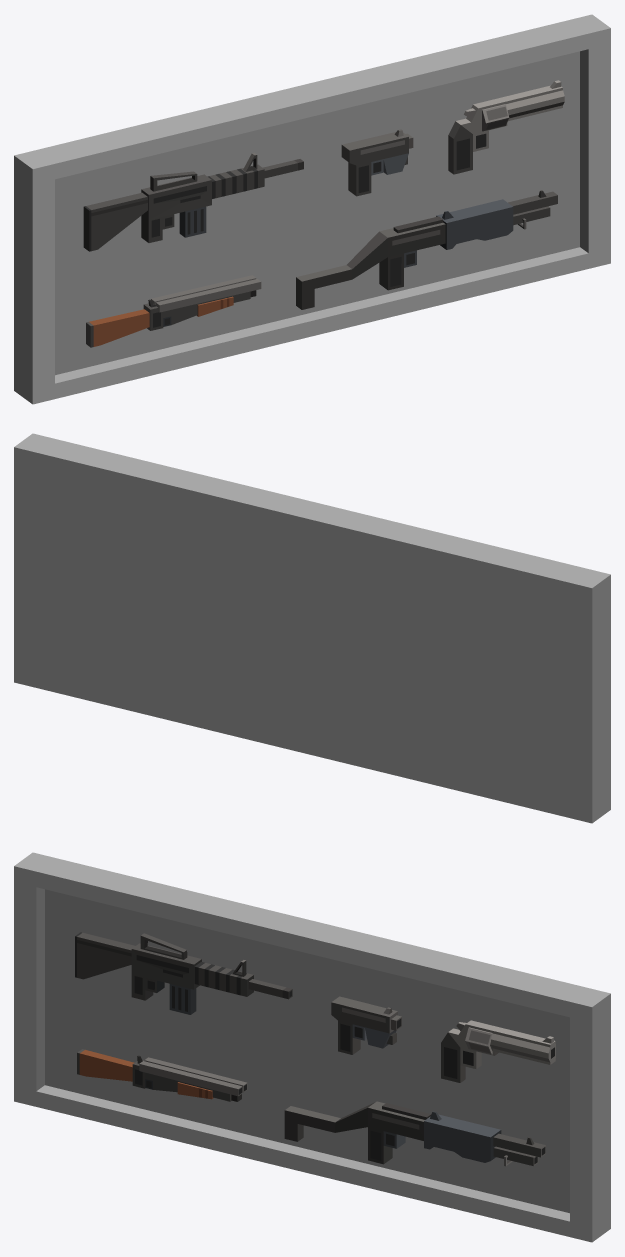
The model's file is AI_Prop_Guns_Rack_01.fbx.
The picture shows the model from 3 angles, top to bottom: view 1: azimuth 30°, elevation 25°; view 2: azimuth 150°, elevation 25°; view 3: azimuth 330°, elevation 25°; orthographic projection.
Parts seen in each view (by area): view 1: AI_Prop_Guns_Rack_01; view 2: AI_Prop_Guns_Rack_01; view 3: AI_Prop_Guns_Rack_01.
Boxes of the visible parts, x1,y1,x2,y2 form: AI_Prop_Guns_Rack_01: (14, 14, 610, 404); AI_Prop_Guns_Rack_01: (14, 433, 610, 823); AI_Prop_Guns_Rack_01: (14, 852, 610, 1242).
Size of the model in its own units: 5.49 by 2.13 by 0.3427.
